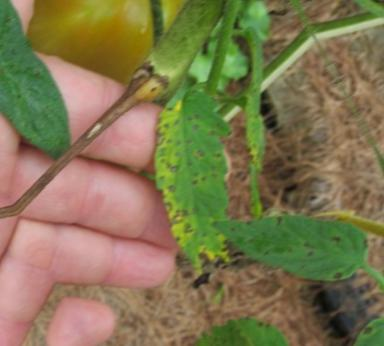Tomato Septoria leaf spot: (107, 75, 288, 284), (205, 157, 375, 321), (0, 40, 90, 180), (137, 298, 289, 346)
